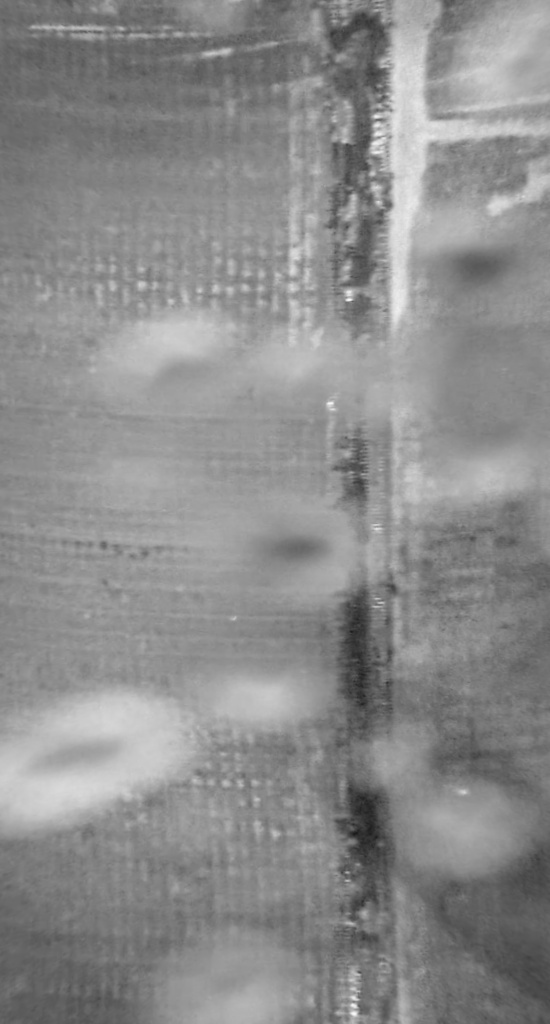splice: (310, 1, 407, 1023)
